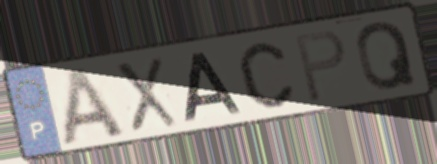A: (60, 64, 129, 149), (182, 50, 246, 124)
C: (235, 39, 297, 110)
P: (292, 27, 349, 106)
Q: (354, 19, 421, 93)
X: (111, 55, 182, 135)
